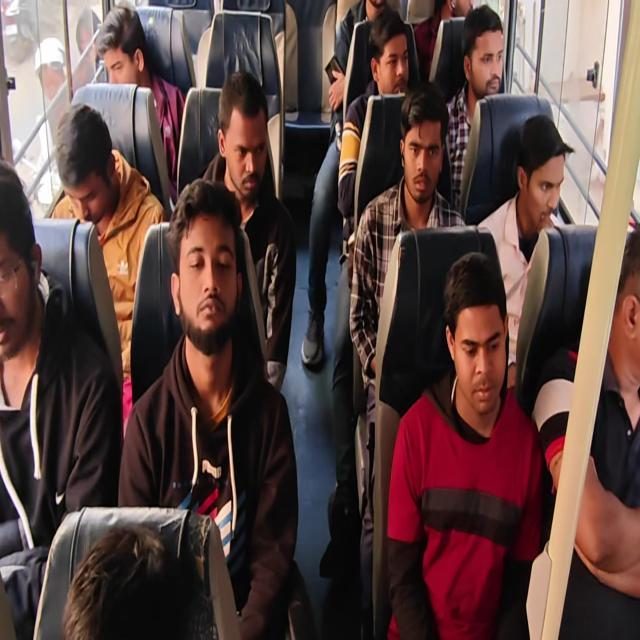person: (55, 518, 228, 640), (169, 170, 242, 353), (438, 246, 512, 423), (48, 88, 132, 239), (0, 148, 52, 378), (210, 79, 277, 196), (389, 79, 450, 204), (605, 207, 640, 414), (516, 99, 567, 232), (92, 2, 153, 100), (457, 1, 509, 109), (368, 2, 410, 98), (430, 0, 478, 21), (360, 0, 388, 28)
